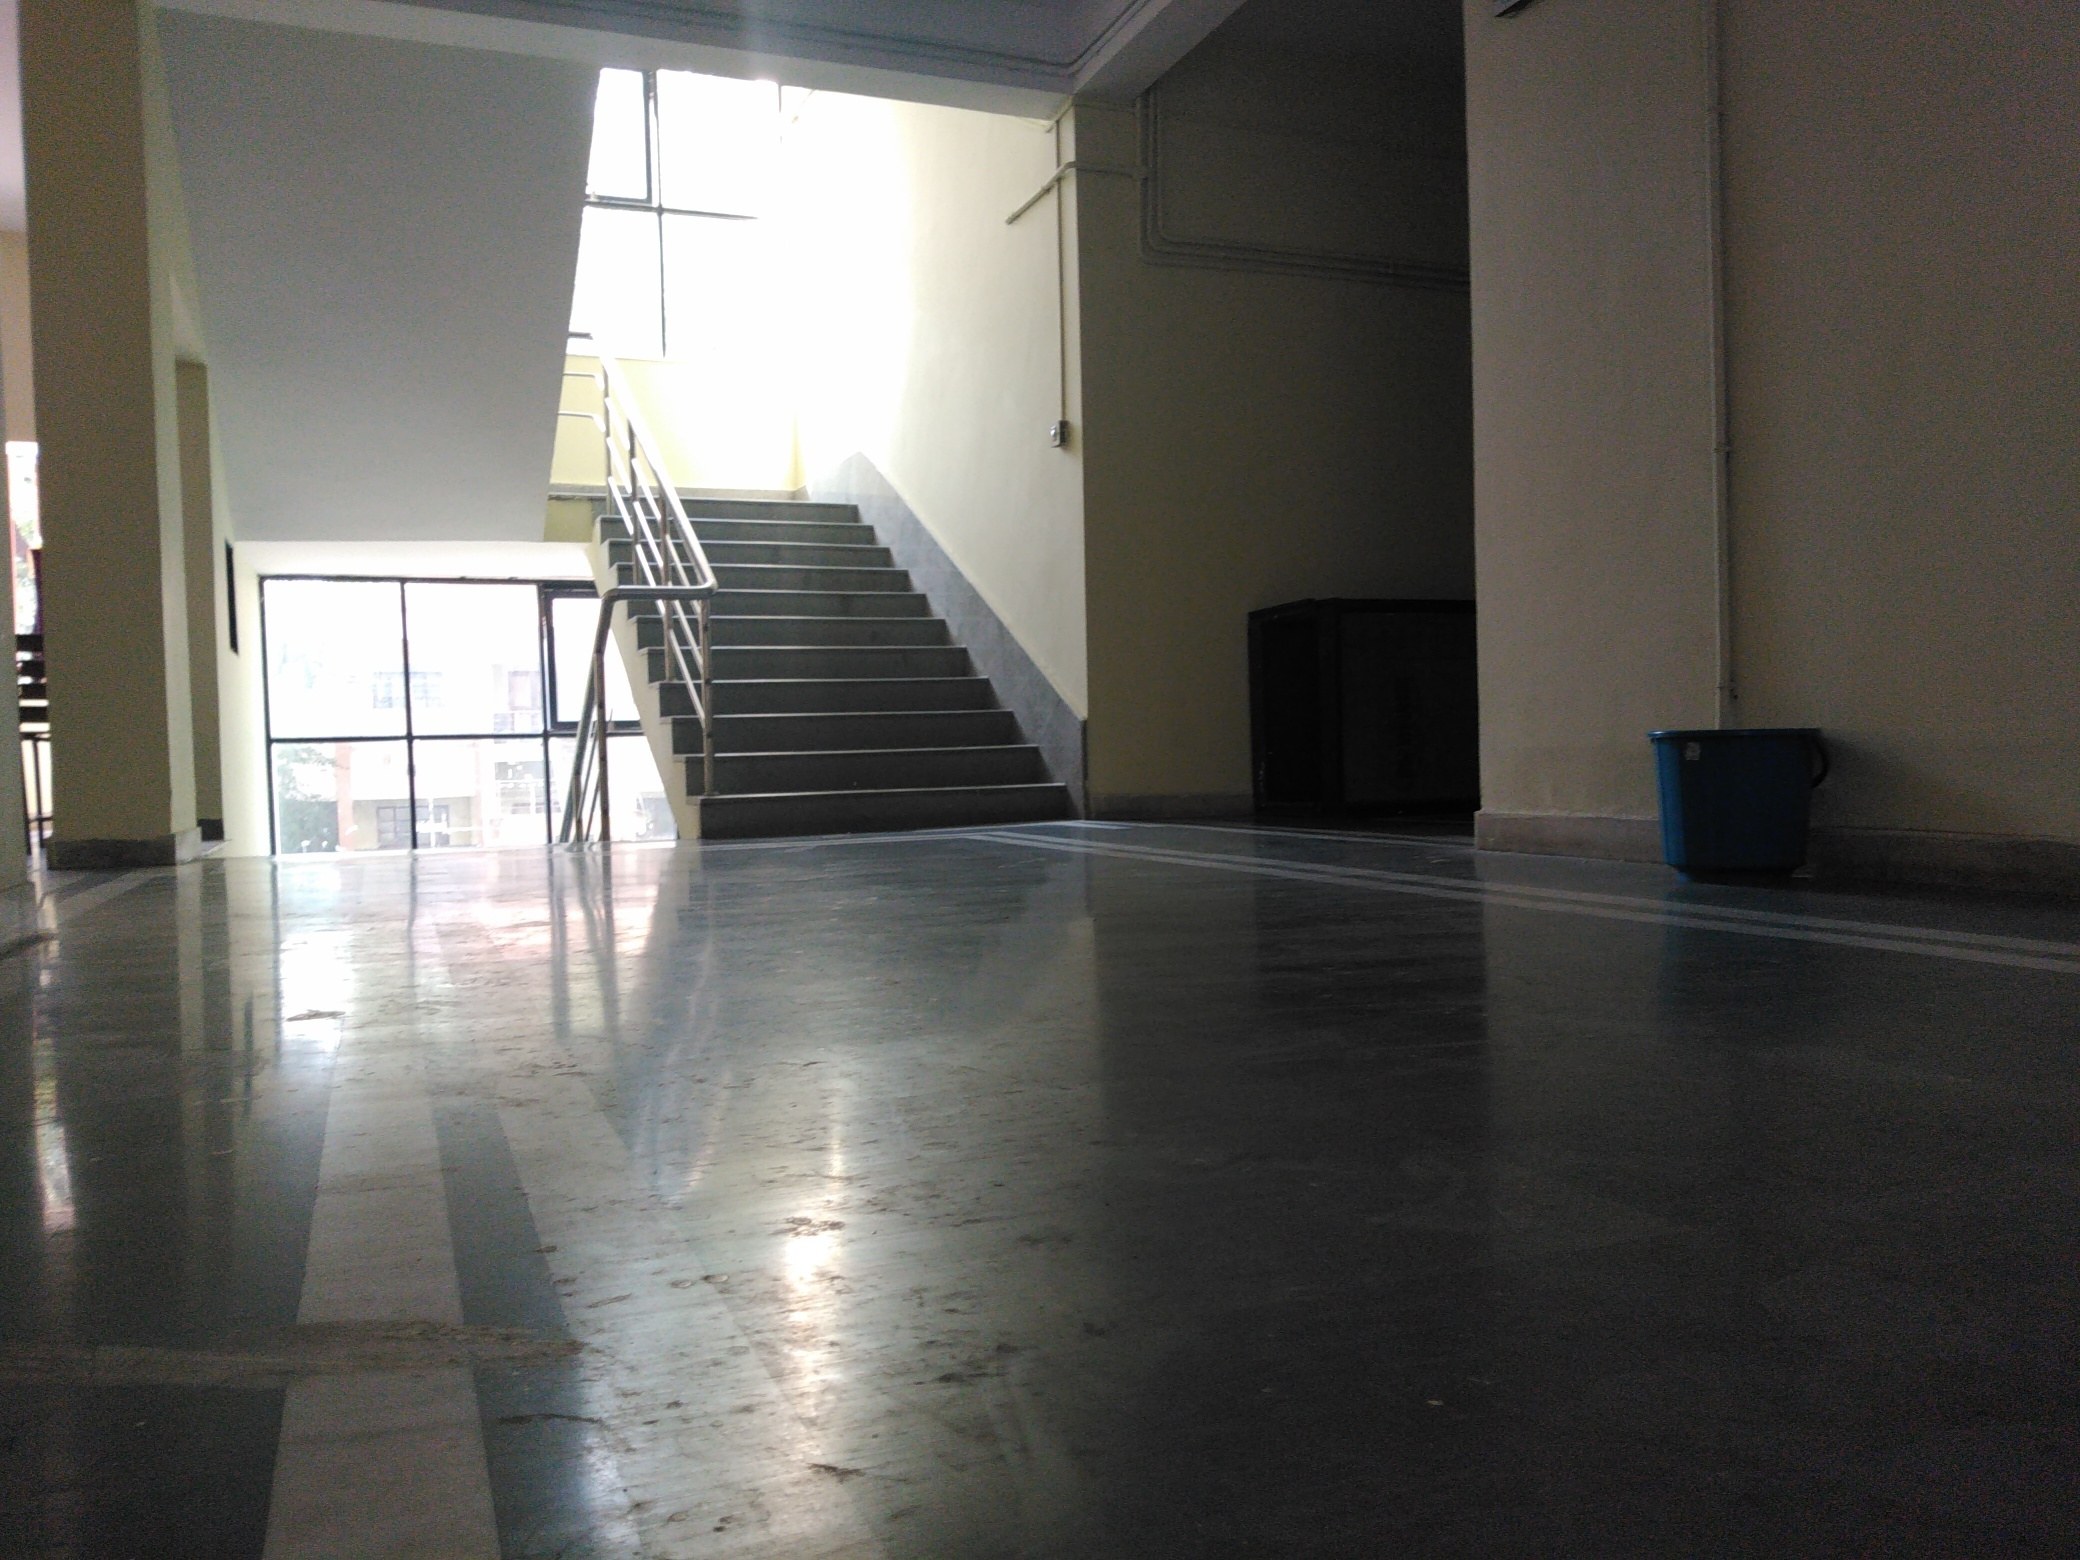stairs_up: (599, 477, 1068, 831)
